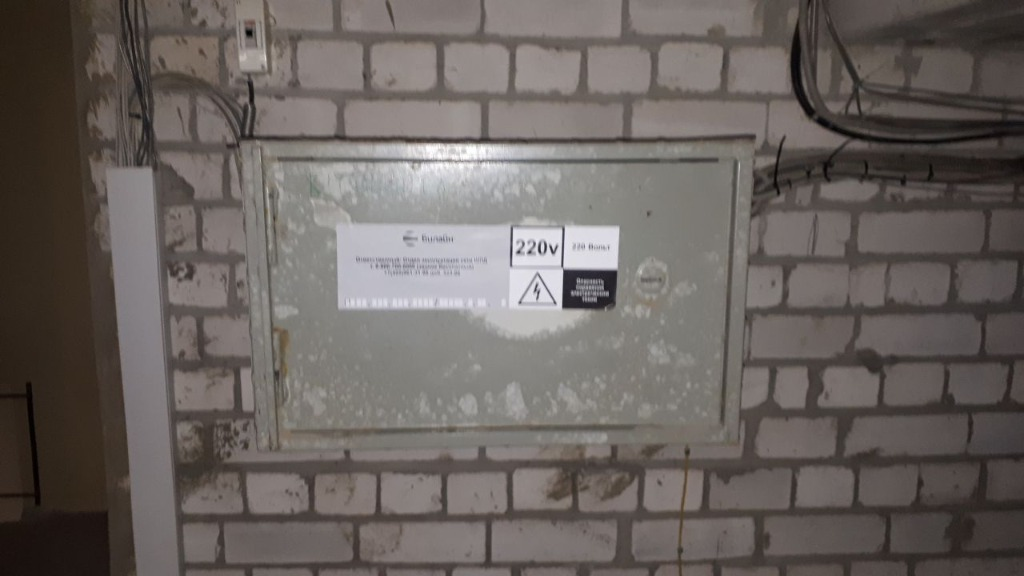e2-6u: (234, 130, 761, 460)
